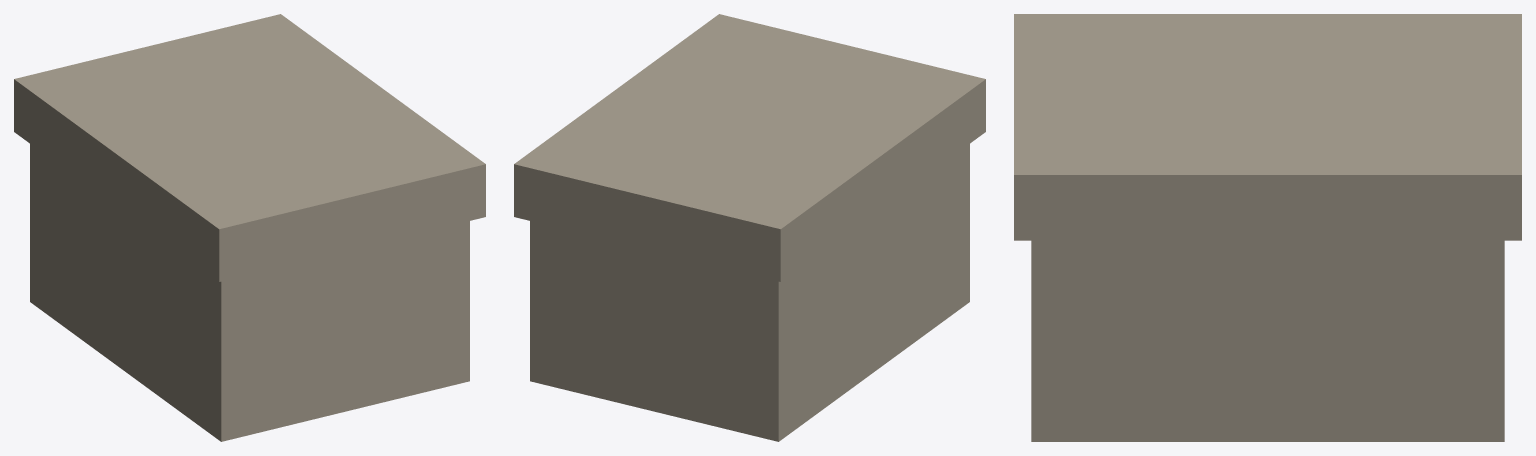
Rendered from cardboard_box_nonuv.fbx.
The picture shows the model from 3 angles, left to right: view 1: azimuth 30°, elevation 25°; view 2: azimuth 150°, elevation 25°; view 3: azimuth 270°, elevation 25°; orthographic projection. The views are drawn at different scales.
Parts seen in each view (by area): view 1: random_box; view 2: random_box; view 3: random_box.
Boxes of the visible parts, bbox=[...] form: random_box: bbox=[14, 14, 485, 441]; random_box: bbox=[514, 14, 985, 441]; random_box: bbox=[1014, 14, 1521, 441].
Size of the model in its own units: 0.4682 by 0.3689 by 0.6236.
